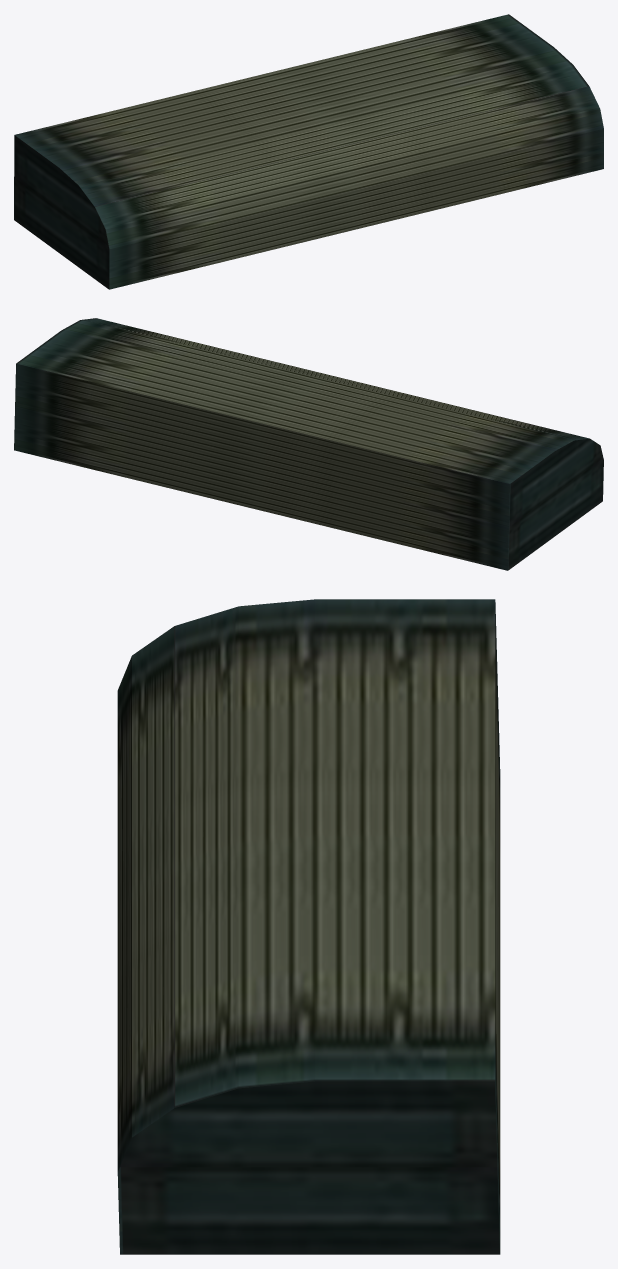
File: awning.fbx
3 renders of one model, top to bottom at view 1: azimuth 30°, elevation 25°; view 2: azimuth 150°, elevation 25°; view 3: azimuth 270°, elevation 25°, orthographic. The views are drawn at different scales.
Parts seen in each view (by area): view 1: Awning; view 2: Awning; view 3: Awning.
Boxes of the visible parts, x1,y1,x2,y2 form: Awning: [14, 14, 603, 289]; Awning: [14, 318, 603, 570]; Awning: [117, 599, 500, 1254].
Bounding box in the file's own units: 601 × 99.96 × 201.
1 material, 1 textured.
